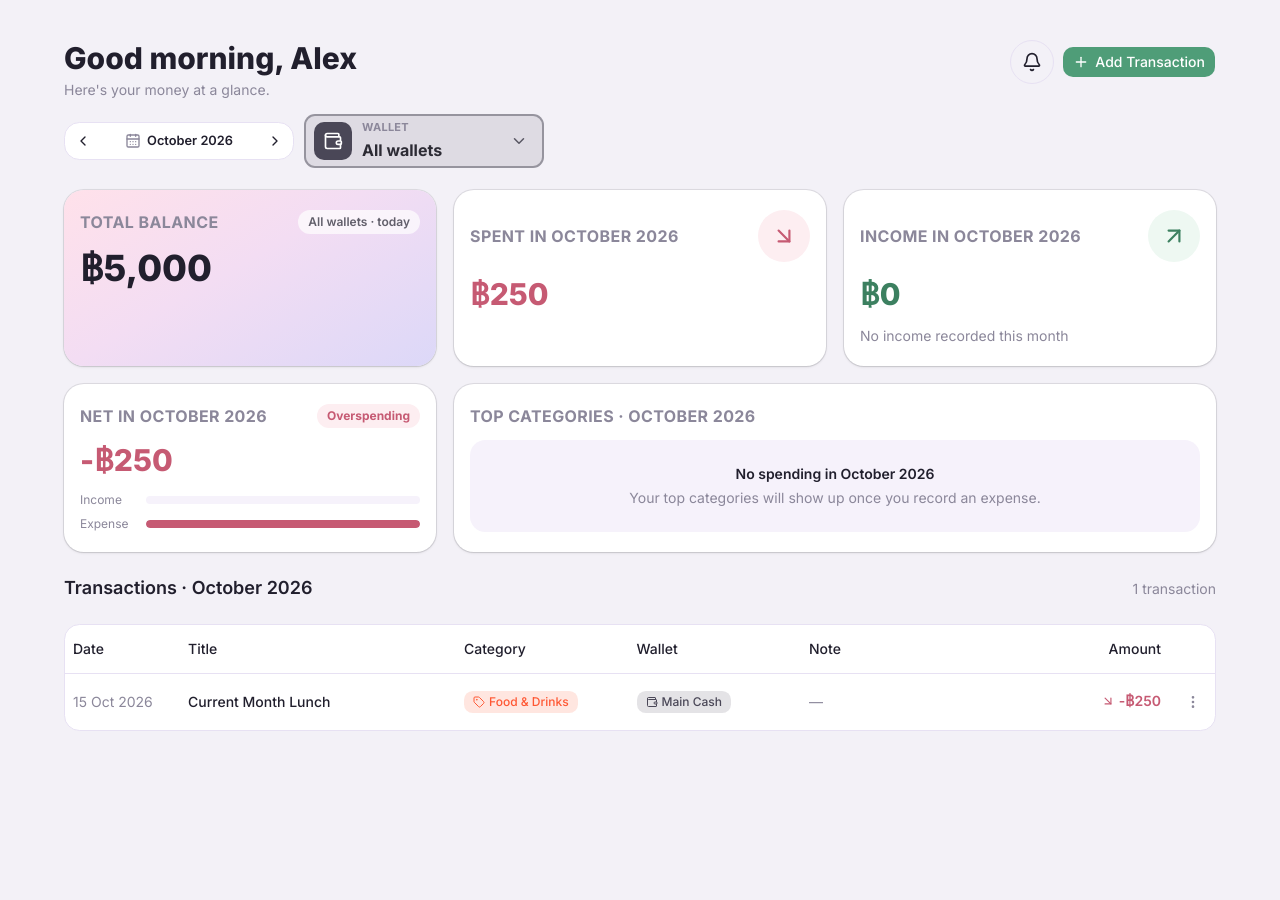
it: Task 59 — Month Navigation on HomePage › navigates back and forth between months and restores transaction view correctly
The width and height of the screenshot is (1280, 900).
Step back to previous month (empty)
Click the button named "Previous month" at (83, 141), box [69,127,97,155]
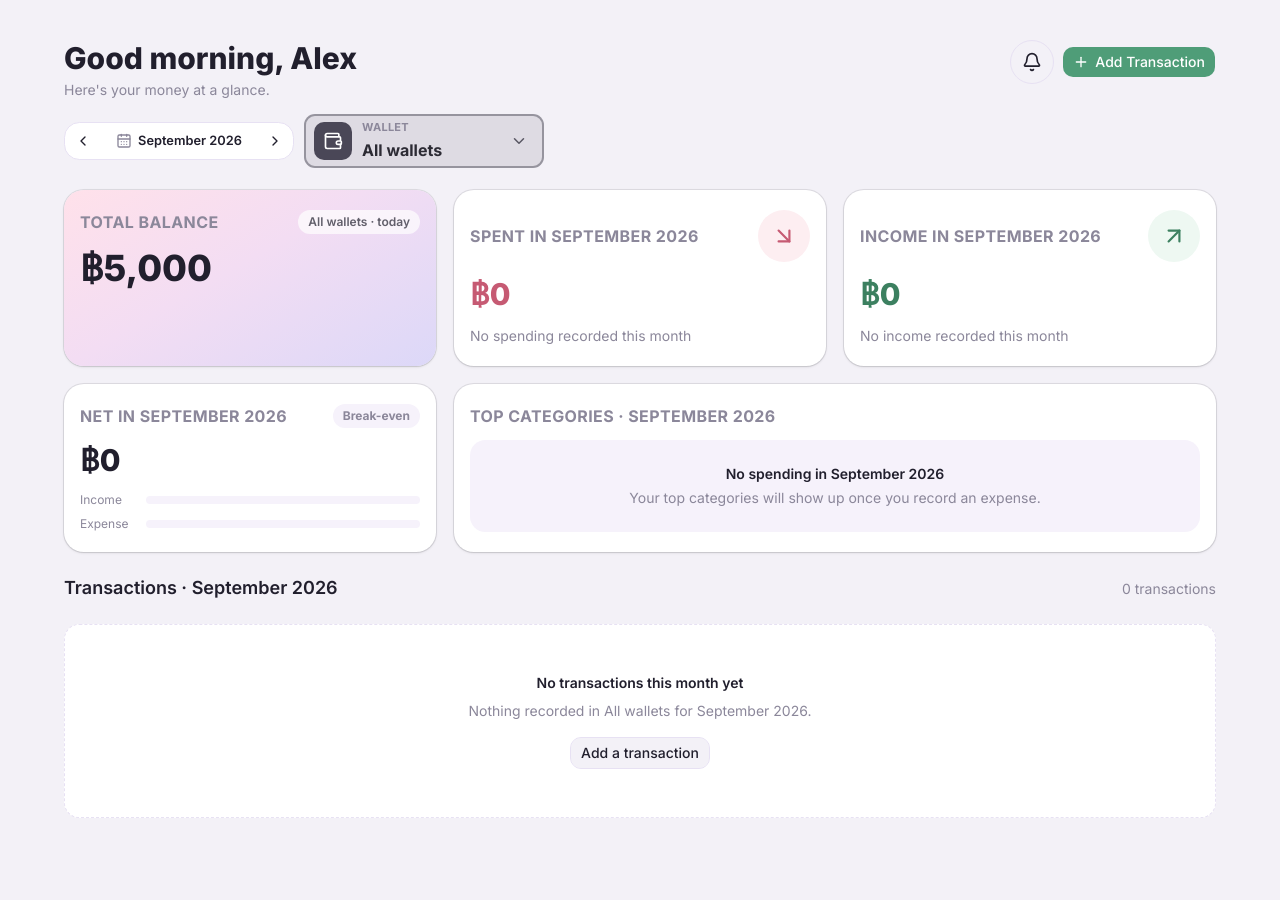
Check: the text "No transactions this month yet" is shown, box [537,673,743,693]
Check: the text "Current Month Lunch" is gone
Step forward back to current month (has transactions)
Click the button named "Next month" at (275, 141), box [261,127,289,155]
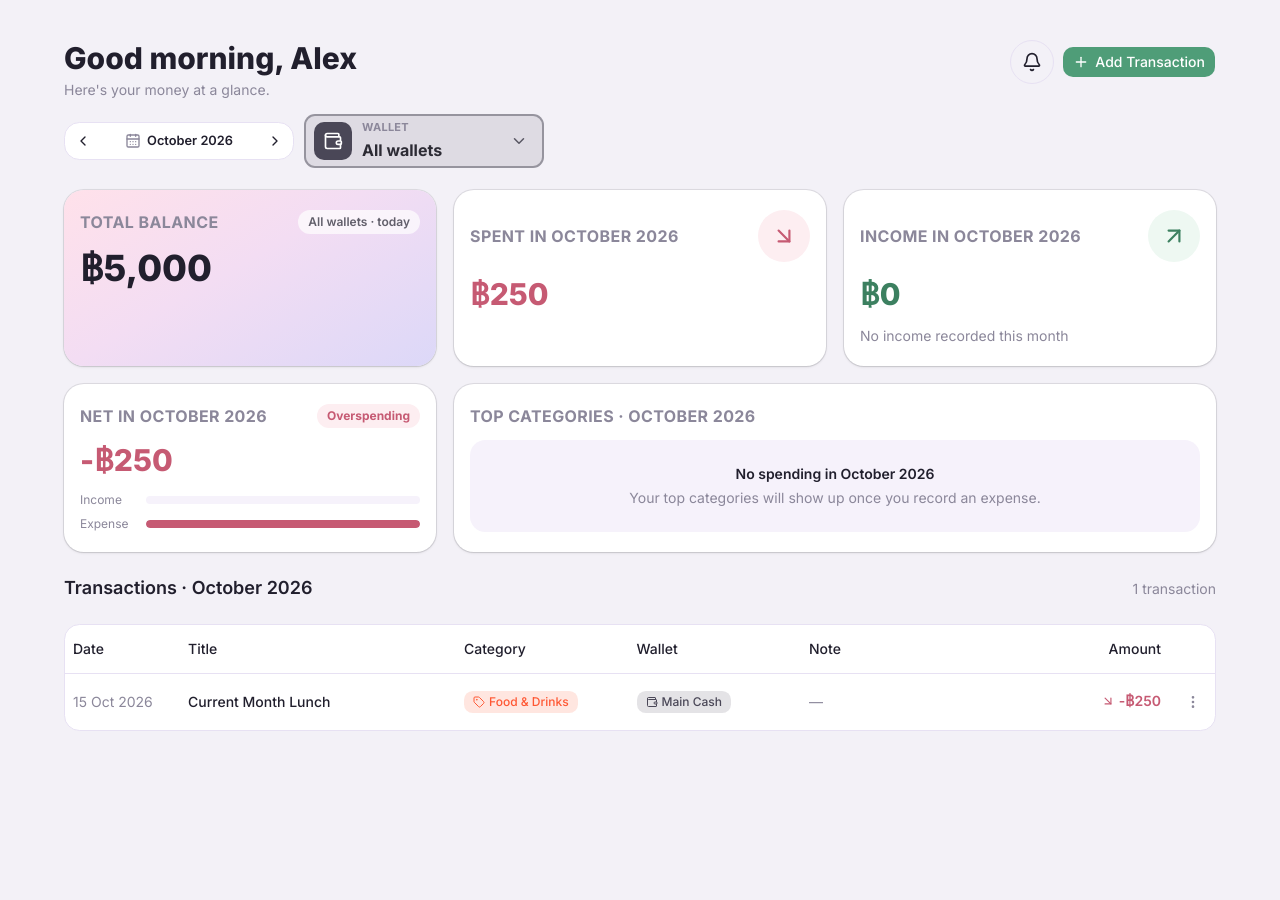
Check: the text "Current Month Lunch" is shown 2 times
Check: the text "No transactions this month yet" is gone
